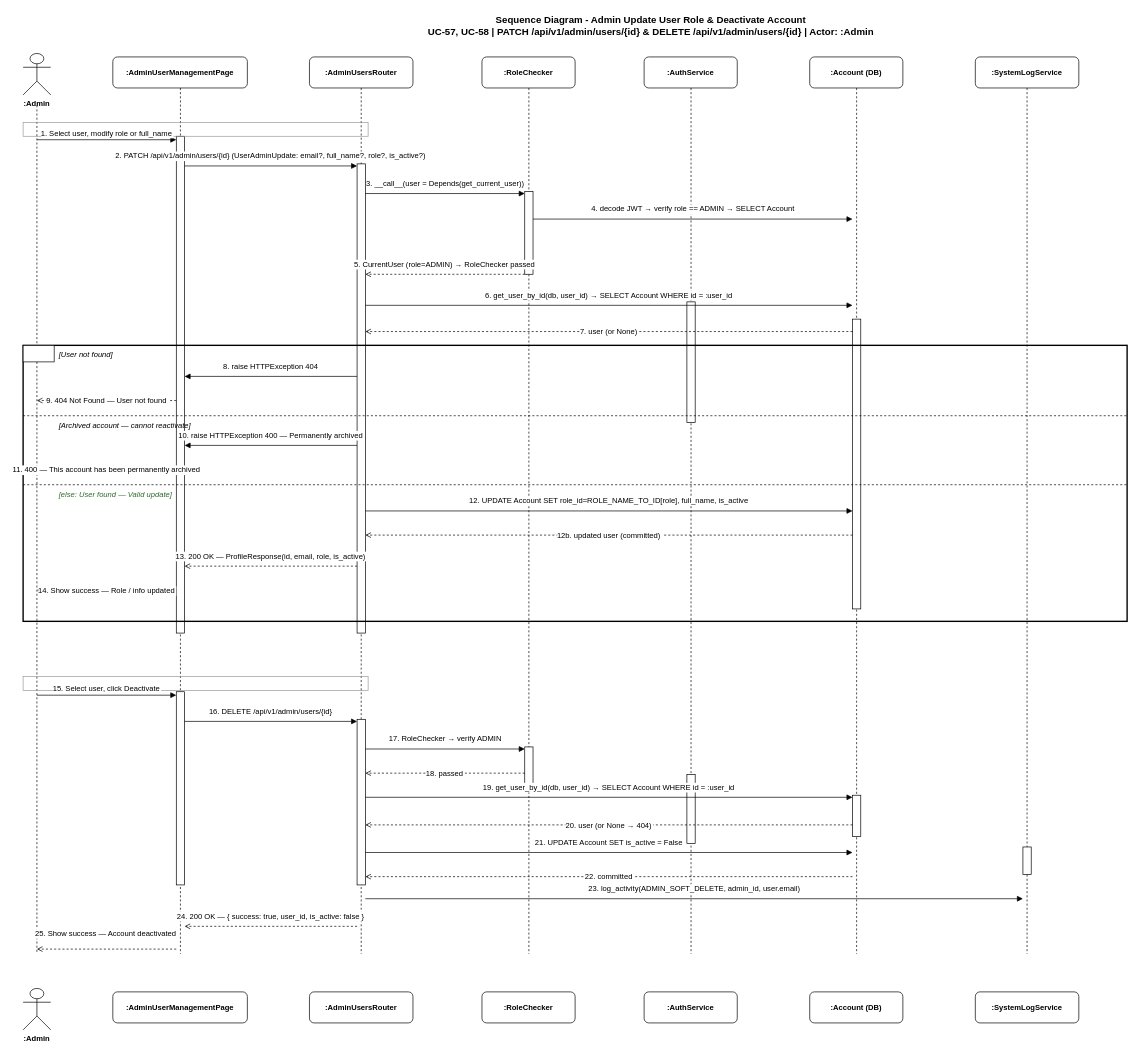
Image size: 1140x1055. Some labels were removed from this diagram. Each missing label, with the box of its shape:
alt: (22, 345, 54, 362)
Phase 1: Update User Role / Info — PATCH /api/v1/admin/users/{id}: (22, 122, 368, 136)
Phase 2: Soft Delete / Deactivate — DELETE /api/v1/admin/users/{id}: (22, 676, 368, 690)
